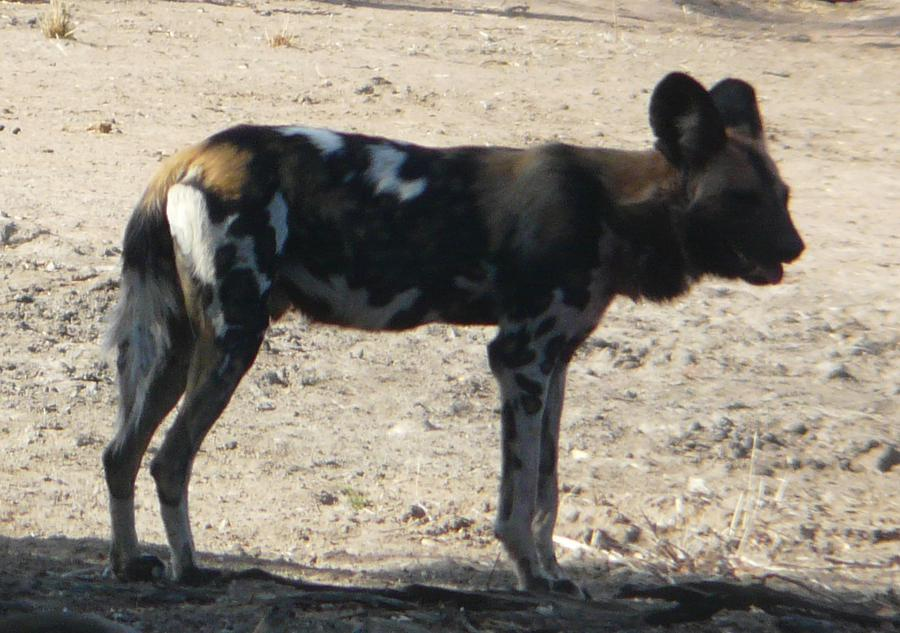wilddog: (123, 97, 780, 387)
